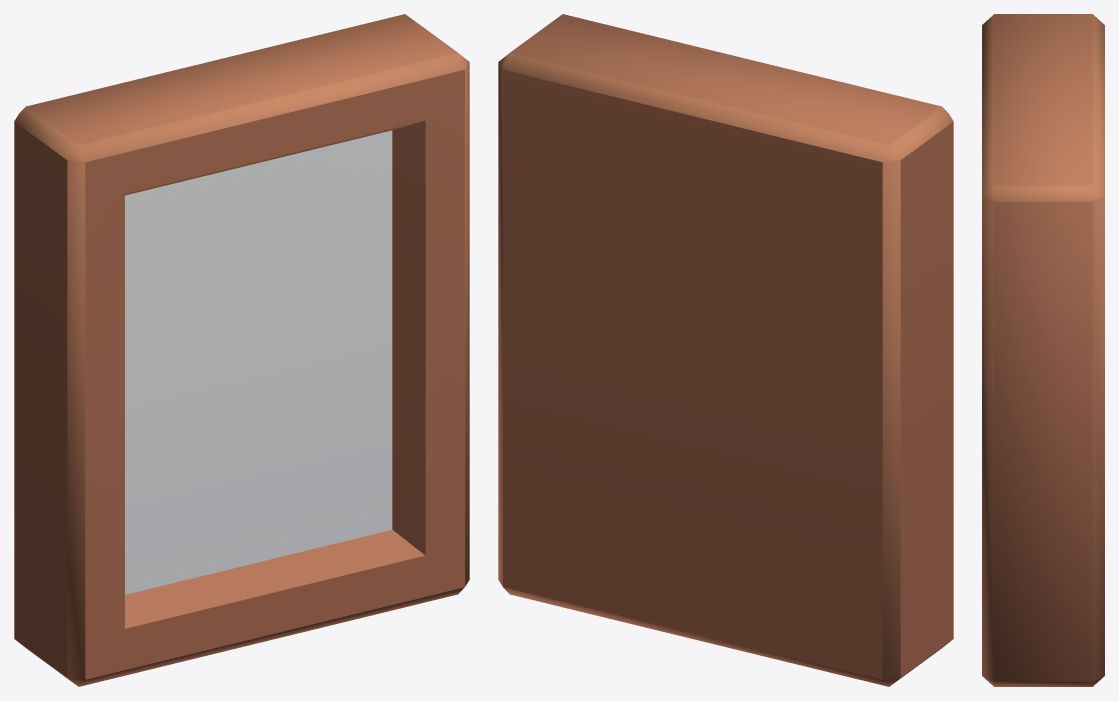
The model's file is kkf.pictureframe_medium.glb.
3 views of the same model, side by side, from view 1: azimuth 30°, elevation 25°; view 2: azimuth 150°, elevation 25°; view 3: azimuth 270°, elevation 25° (orthographic). The views are drawn at different scales.
Parts seen in each view (by area): view 1: pictureframe_medium; view 2: pictureframe_medium; view 3: pictureframe_medium.
Part boxes in pixels (x1,y1,x2,y2): pictureframe_medium: (14,14,469,686); pictureframe_medium: (498,14,953,686); pictureframe_medium: (982,14,1104,686).
Bounding box in the file's own units: 0.2504 × 0.3219 × 0.0715.
1 material, 1 textured.
